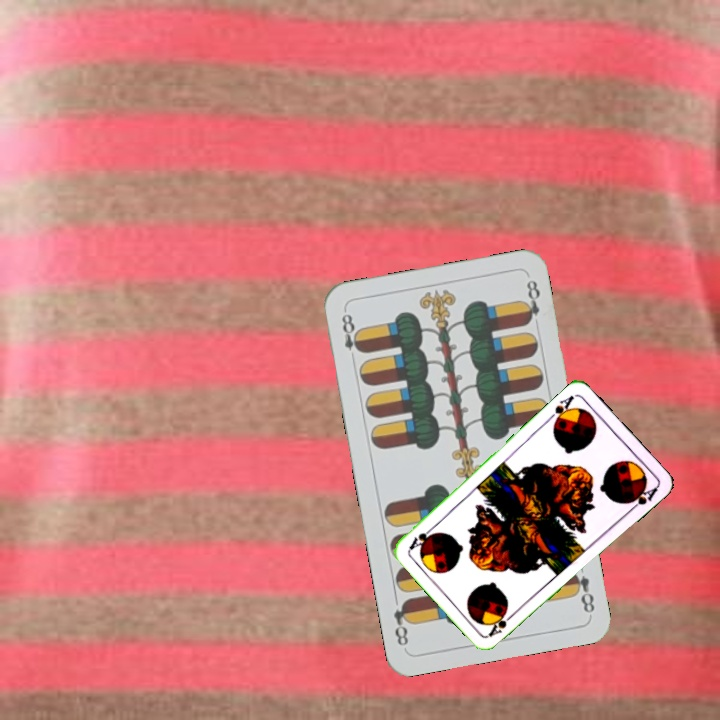E8: (337, 306, 365, 365), (566, 567, 598, 616)
SA: (544, 391, 577, 428), (484, 607, 519, 639)
